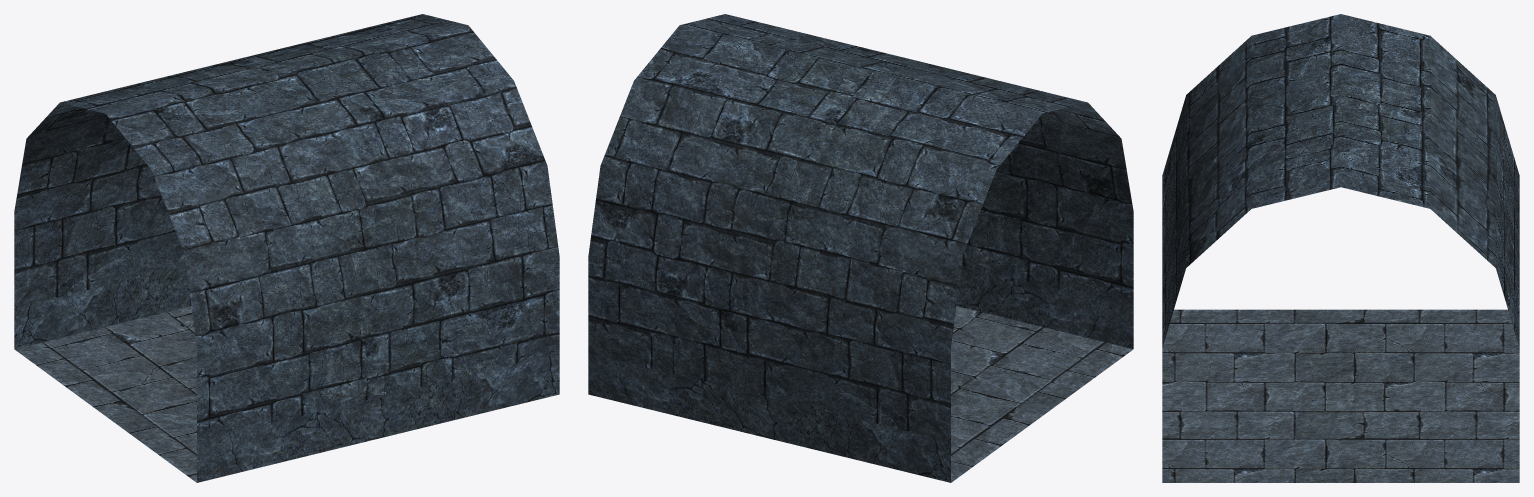
File: DownFloor_tunelEx.FBX
The picture shows the model from 3 angles, left to right: view 1: azimuth 30°, elevation 25°; view 2: azimuth 150°, elevation 25°; view 3: azimuth 270°, elevation 25°; orthographic projection. The views are drawn at different scales.
Parts seen in each view (by area): view 1: DownFloor_tunelEx; view 2: DownFloor_tunelEx; view 3: DownFloor_tunelEx.
Boxes of the visible parts, left/top/right/bottom form: DownFloor_tunelEx: left=14, top=14, right=559, bottom=482; DownFloor_tunelEx: left=588, top=14, right=1133, bottom=482; DownFloor_tunelEx: left=1162, top=14, right=1519, bottom=482.
Bounding box in the file's own units: 45.93 × 36.56 × 40.06.
Materials: 3 (3 with a texture image).
